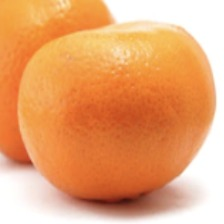orange: (1, 44, 182, 194)
